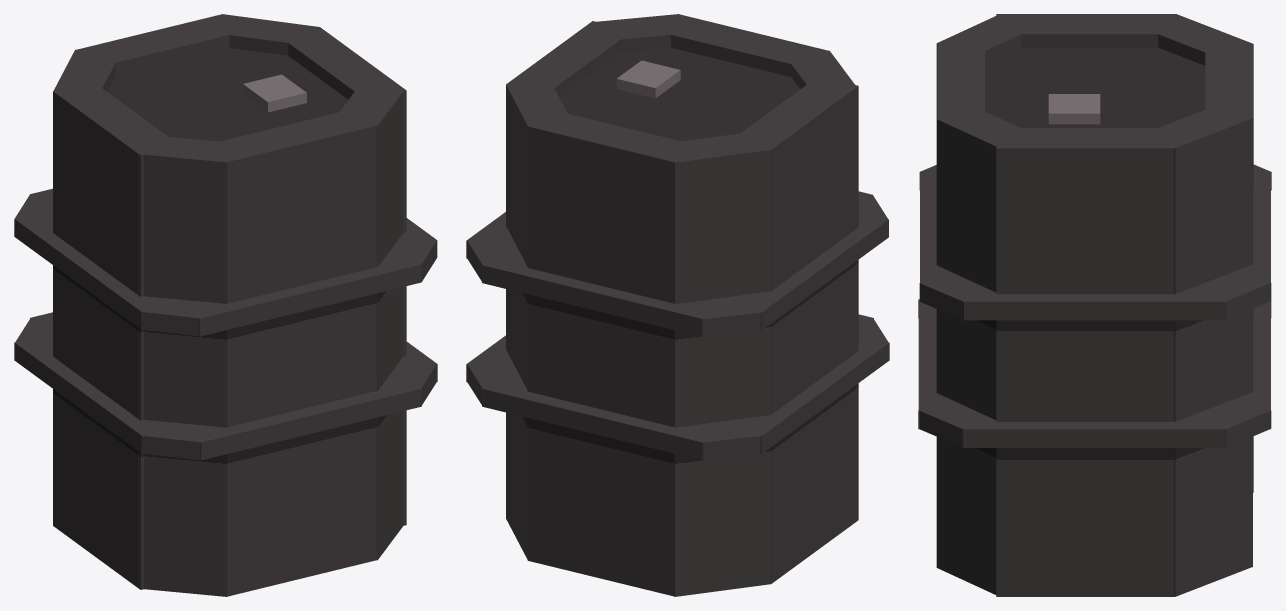
The model's file is barril_aceite.gltf.
3 renders of one model, left to right at view 1: azimuth 30°, elevation 25°; view 2: azimuth 150°, elevation 25°; view 3: azimuth 270°, elevation 25°, orthographic. The views are drawn at different scales.
Parts seen in each view (by area): view 1: cube (×18); view 2: cube (×18); view 3: cube (×18).
Part boxes in pixels (bbox=[...]): cube (×18): bbox=[14, 14, 437, 596]; cube (×18): bbox=[466, 14, 889, 596]; cube (×18): bbox=[918, 14, 1271, 596].
Bounding box in the file's own units: 2.16 × 3.03 × 2.16.
1 material, 1 textured.
